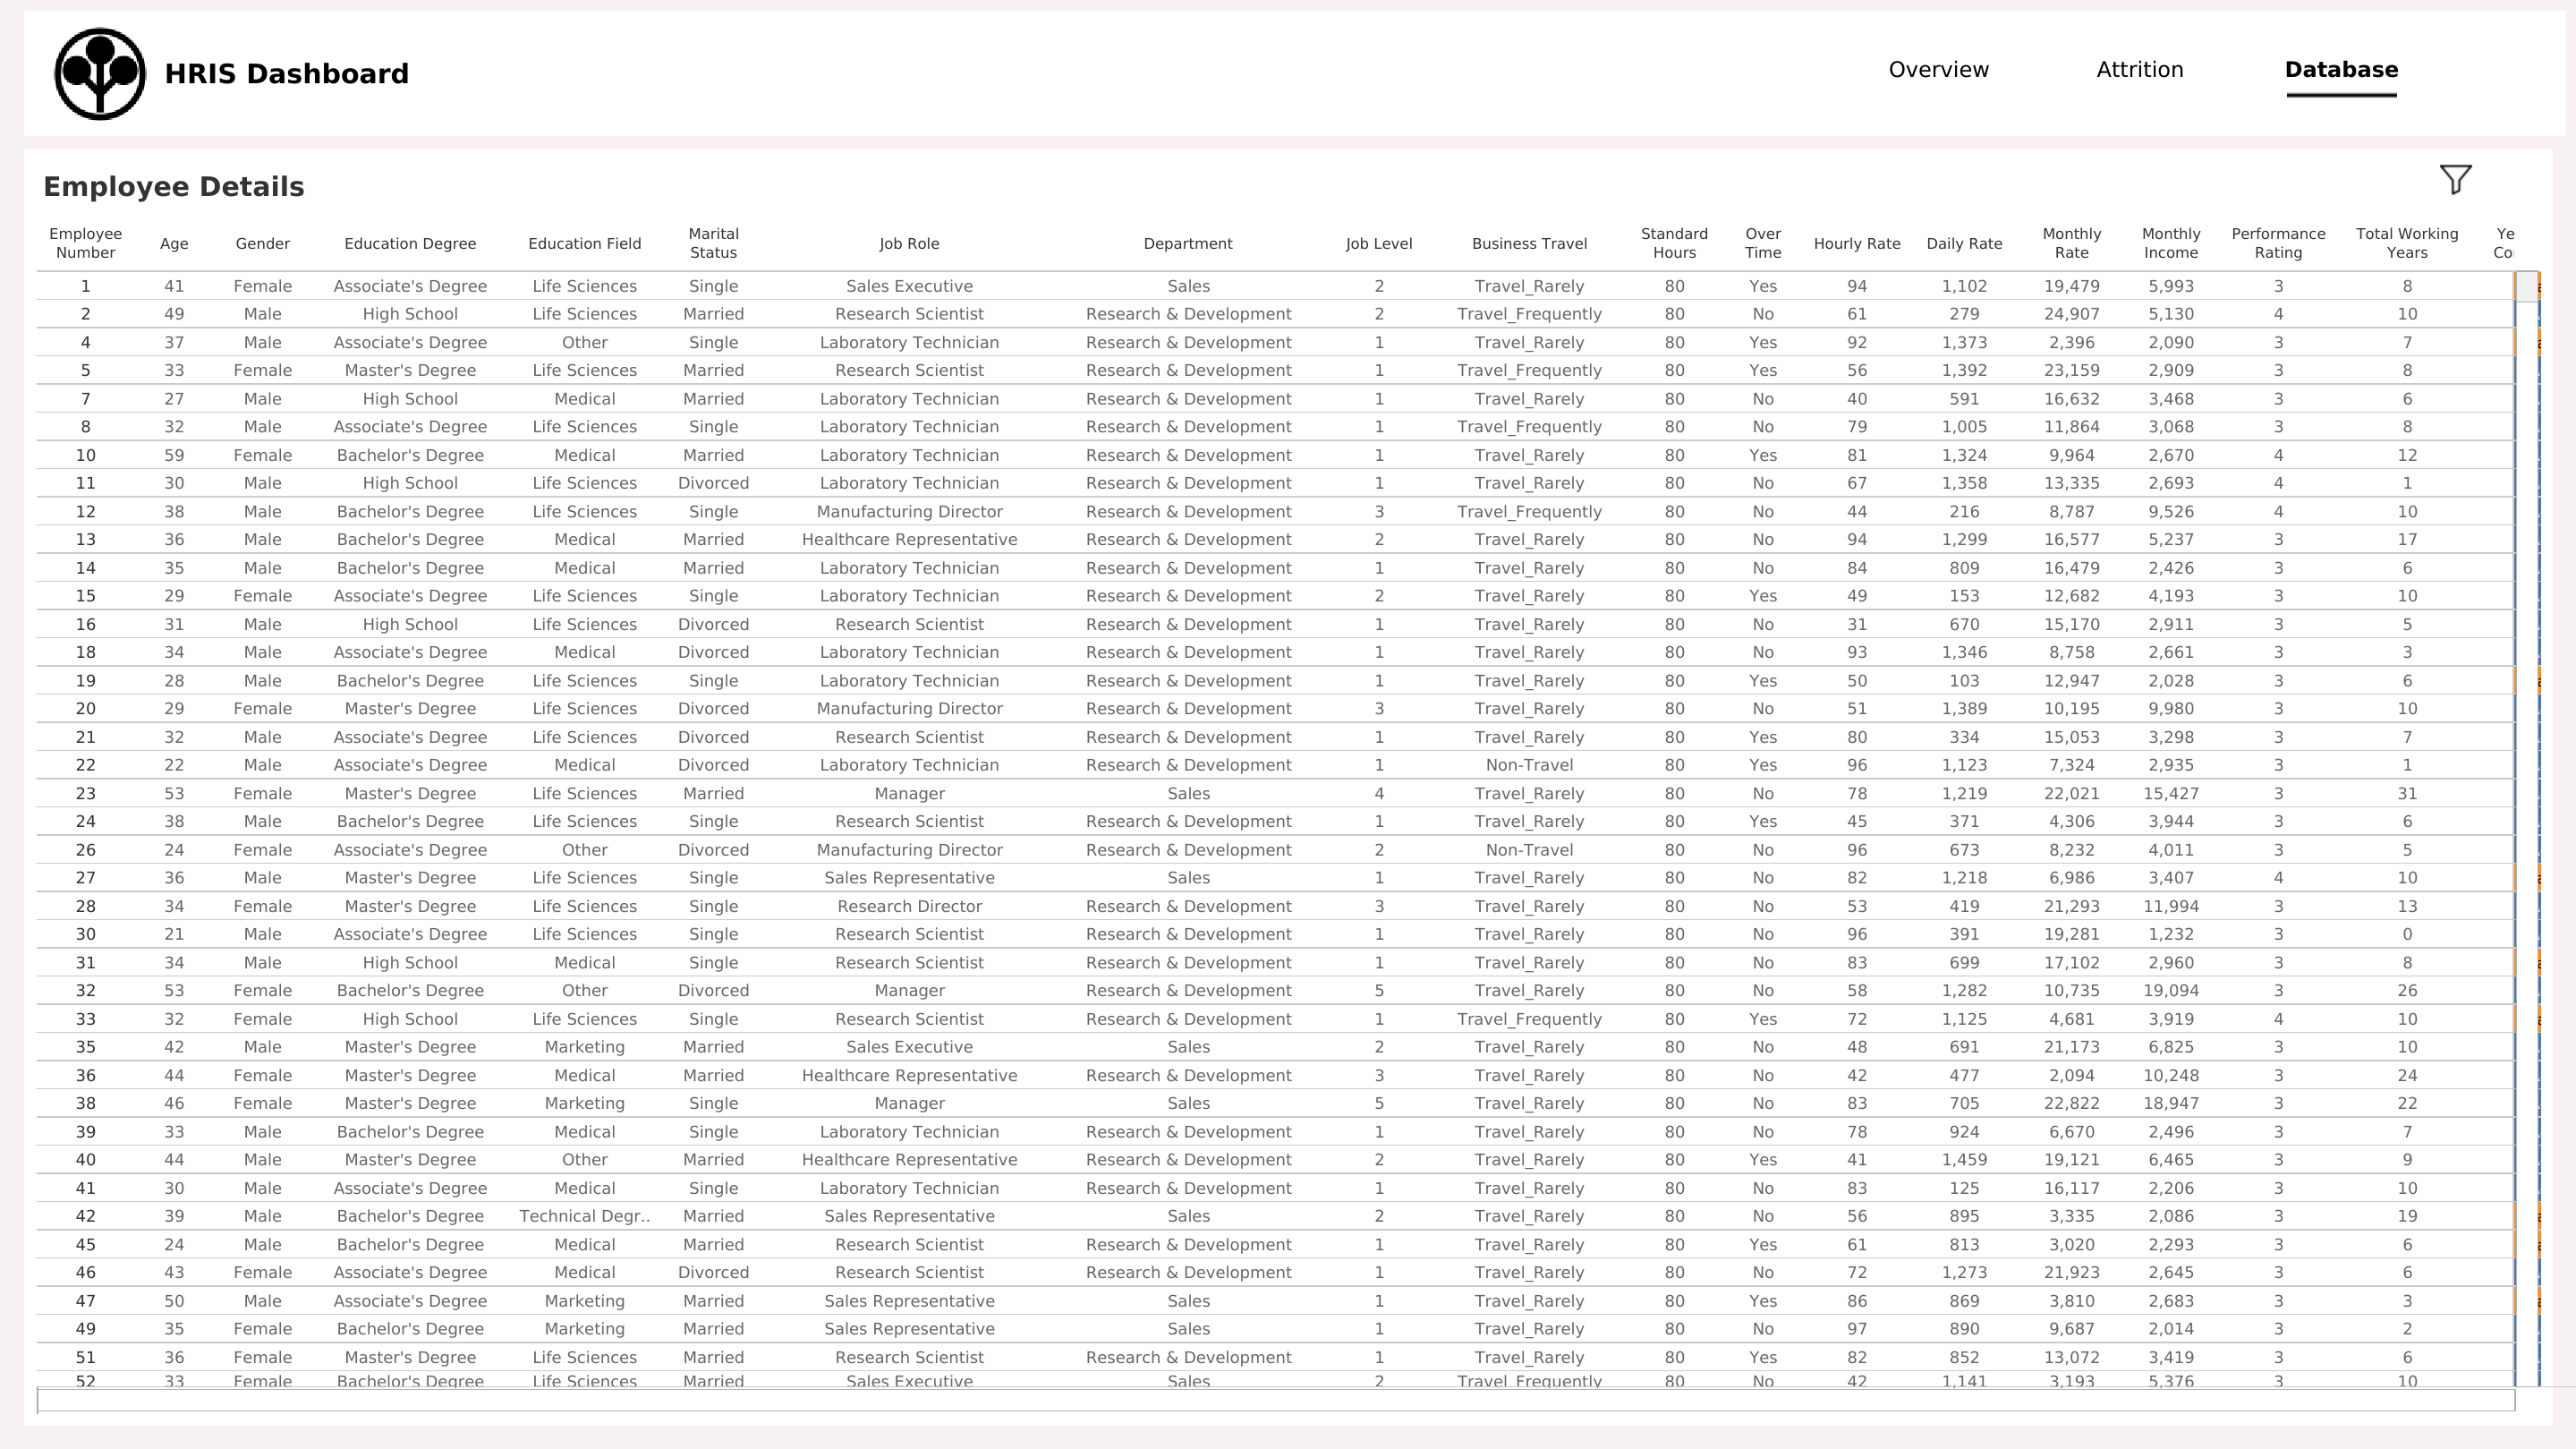

The dashboard page shown, as its layout file describes it:
{"tool":"tableau","page":{"name":"Database","canvas":[1920,1080],"ordinal":2},"visuals":[{"type":"image","param":"Image/logo1.png","box":[8,8,112,93]},{"type":"text","box":[120,8,1792,93]},{"type":"dashboard-object","box":[1375,25,140,52]},{"type":"dashboard-object","box":[1525,25,140,52]},{"type":"dashboard-object","box":[1675,25,140,52]},{"type":"image","param":"Image/pngwing.com.png","box":[1703,30,85,82]},{"type":"worksheet","title":"Employee data","mark":"Square","rows":["EmployeeNumber","Age","Gender","Education (copy) (copy)_931119267606732805","EducationField","MaritalStatus","JobRole","Department","JobLevel","BusinessTravel","StandardHours","OverTime"],"box":[8,101,1904,971]},{"type":"filter","title":"Employee data","param":"[federated.0ts71qi1vnqie215kpdup1obga7r].[none:EmployeeNumber:ok]","box":[706,112,140,54]},{"type":"filter","title":"Employee data","param":"[federated.0ts71qi1vnqie215kpdup1obga7r].[none:Gender:nk]","box":[846,112,140,54]},{"type":"filter","title":"Employee data","param":"[federated.0ts71qi1vnqie215kpdup1obga7r].[none:Education (copy) (copy)_931119267","box":[986,112,140,54]},{"type":"filter","title":"Employee data","param":"[federated.0ts71qi1vnqie215kpdup1obga7r].[none:EducationField:nk]","box":[1126,112,140,54]},{"type":"filter","title":"Employee data","param":"[federated.0ts71qi1vnqie215kpdup1obga7r].[none:JobRole:nk]","box":[1266,112,140,54]},{"type":"filter","title":"Employee data","param":"[federated.0ts71qi1vnqie215kpdup1obga7r].[none:Department:nk]","box":[1406,112,140,54]},{"type":"filter","title":"Employee data","param":"[federated.0ts71qi1vnqie215kpdup1obga7r].[none:Attrition:nk]","box":[1546,112,140,54]},{"type":"dashboard-object","box":[1818,122,24,24]}]}

Visuals, with their boxes in screenshot pixels (x1, y1, x2, y2), scaled from the page's 1920x1080 canvas onto the 2576x1449 screenshot:
image: [11,11,161,135]
text: [161,11,2565,135]
dashboard-object: [1845,33,2033,103]
dashboard-object: [2046,33,2234,103]
dashboard-object: [2248,33,2436,103]
image: [2285,40,2399,150]
"Employee data" worksheet (Square marks): [11,135,2565,1438]
"Employee data" filter: [948,150,1135,223]
"Employee data" filter: [1135,150,1322,223]
"Employee data" filter: [1322,150,1510,223]
"Employee data" filter: [1510,150,1698,223]
"Employee data" filter: [1698,150,1886,223]
"Employee data" filter: [1886,150,2074,223]
"Employee data" filter: [2074,150,2262,223]
dashboard-object: [2439,164,2471,196]
